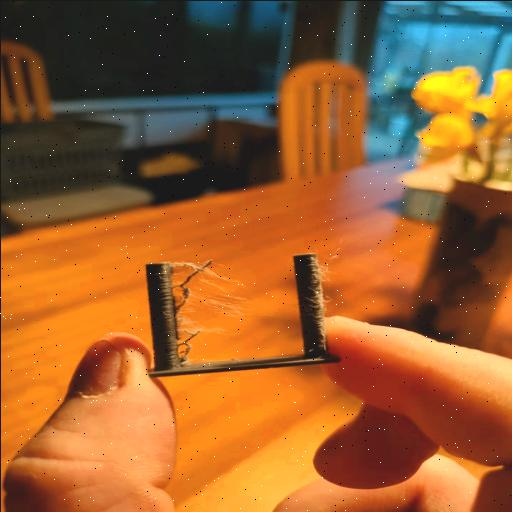stringing: (168, 264, 250, 326)
